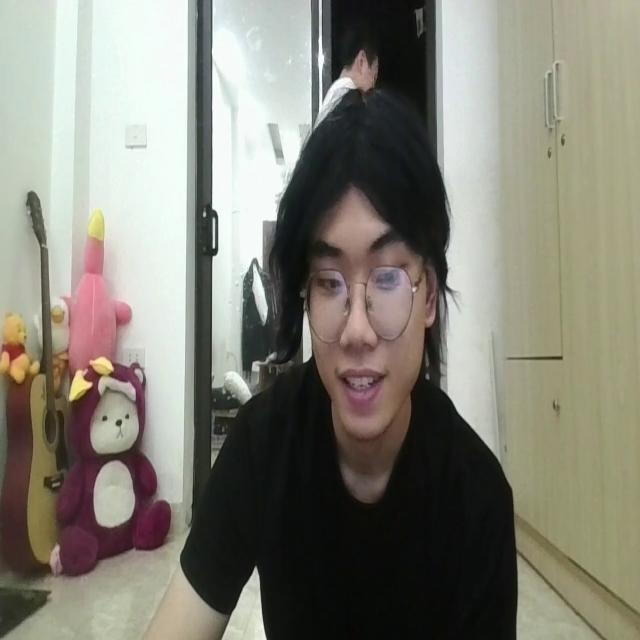student: (136, 86, 516, 640)
